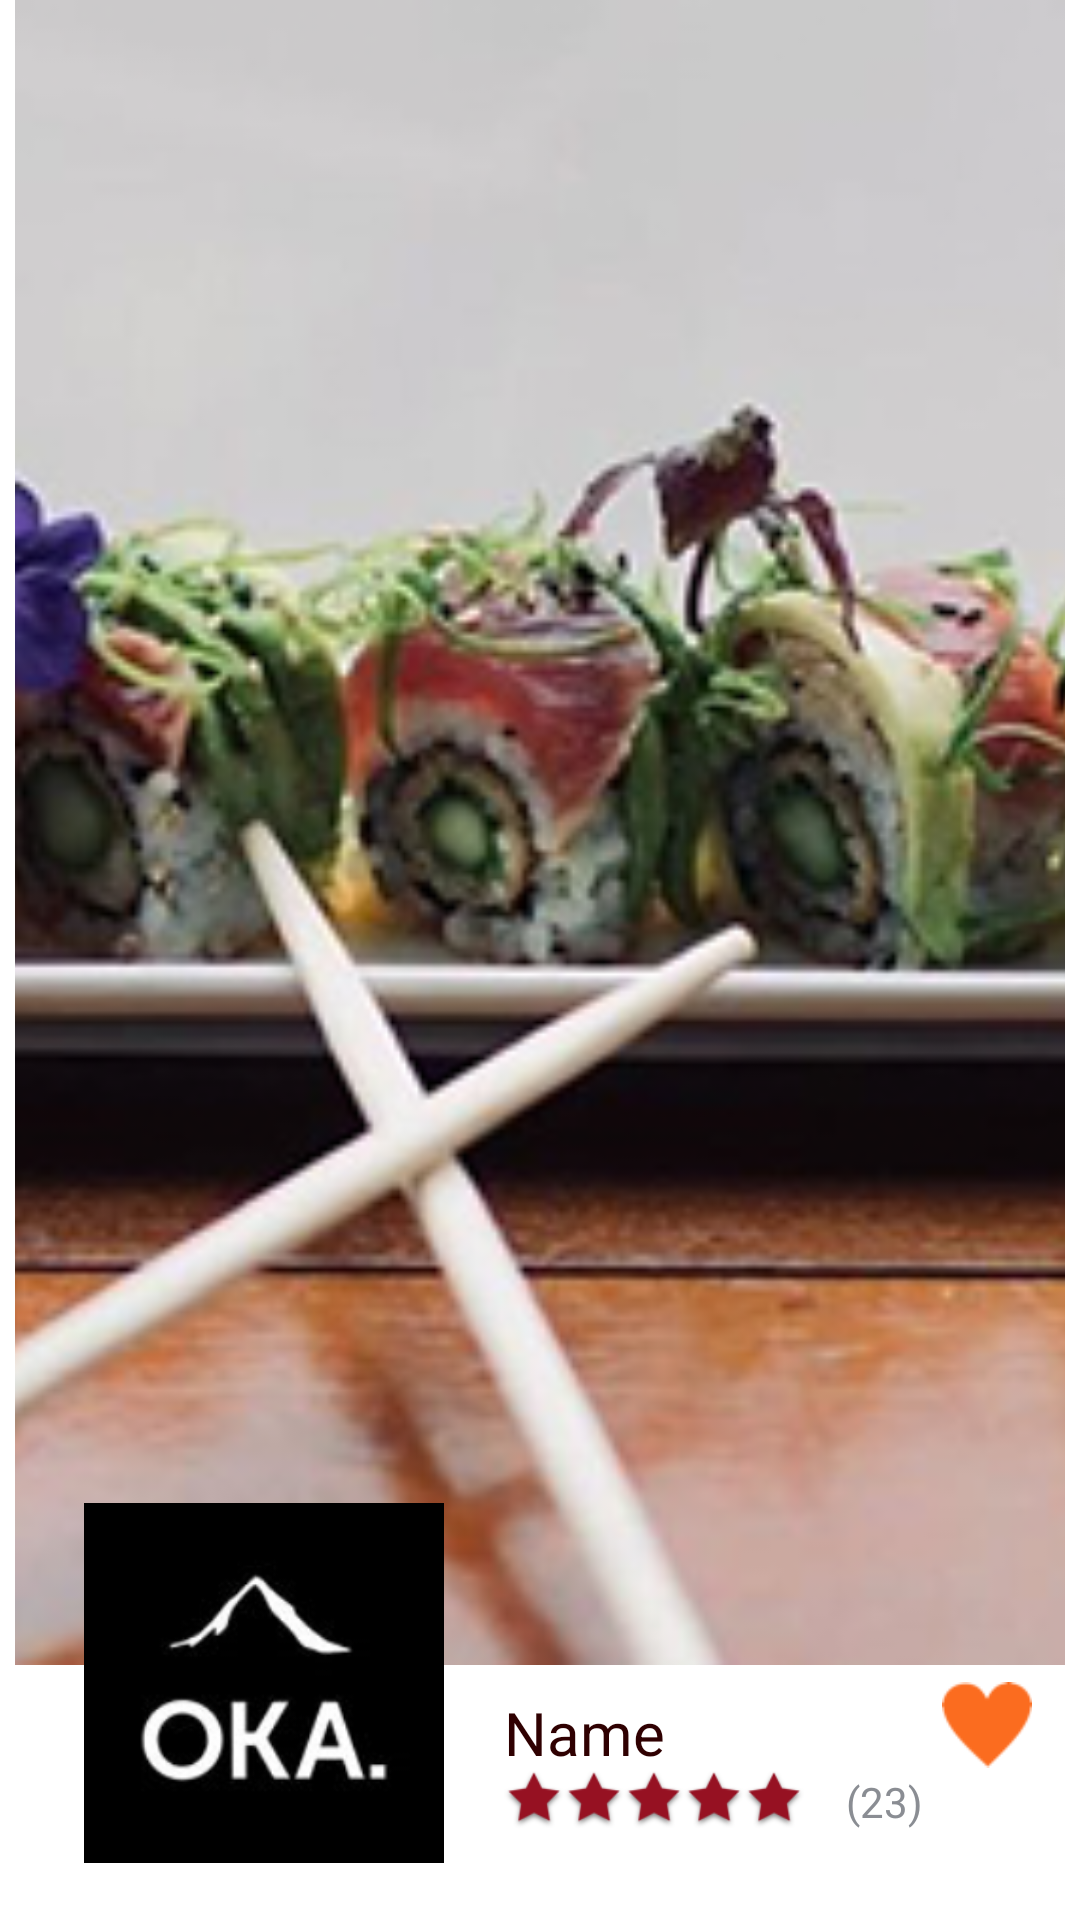

Icons on this 1080px×1920px Android screen, each with its box as (x1, y1, x2, y2):
heart: (942, 1682, 1032, 1768)
